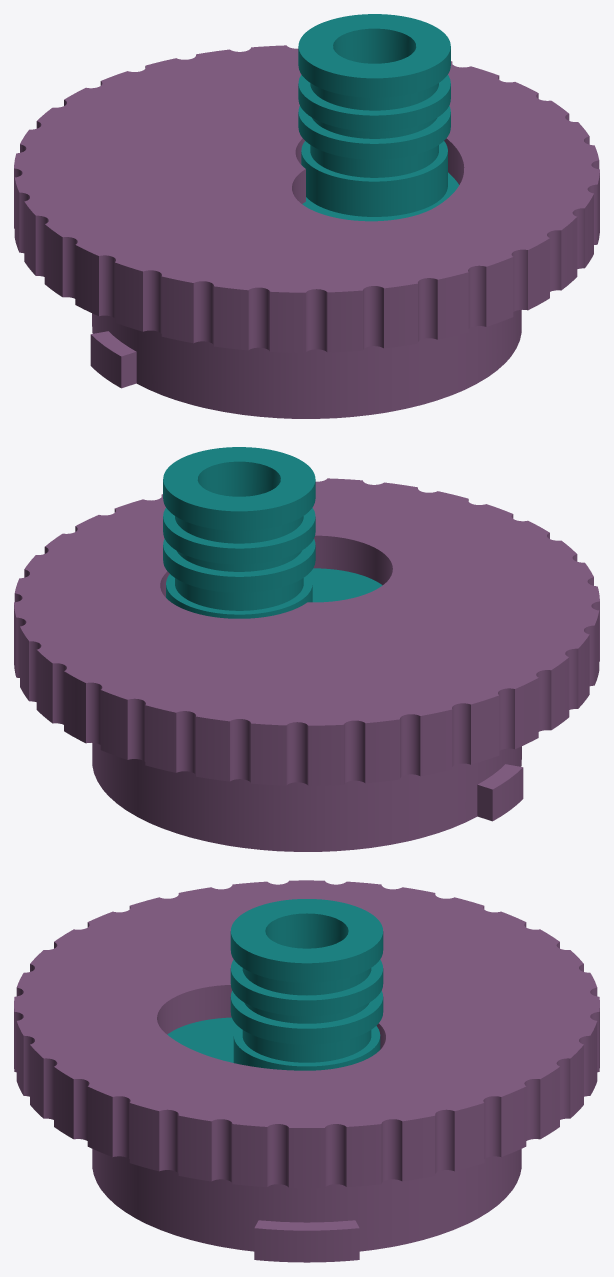
File: luer_transfer_cap.glb
3 renders of one model, top to bottom at view 1: azimuth 30°, elevation 25°; view 2: azimuth 150°, elevation 25°; view 3: azimuth 270°, elevation 25°, orthographic.
Parts seen in each view (by area): view 1: _glb_luer (×2); view 2: _glb_luer (×2); view 3: _glb_luer (×2).
Boxes of the visible parts, left/top/right/bottom form: _glb_luer (×2): left=14, top=14, right=599, bottom=418; _glb_luer (×2): left=14, top=447, right=599, bottom=851; _glb_luer (×2): left=14, top=880, right=599, bottom=1262.
Bounding box in the file's own units: 0.03 × 0.015 × 0.03.
